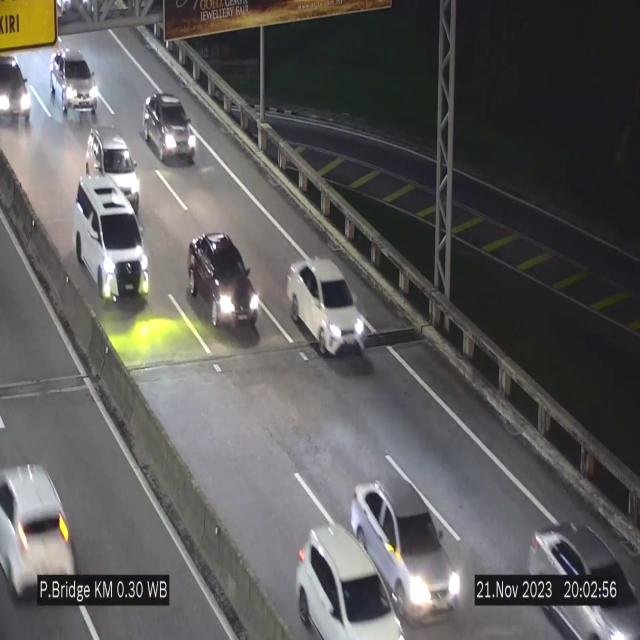Car: (348, 470, 466, 620), (526, 488, 640, 640), (0, 440, 90, 610), (285, 518, 407, 640), (74, 176, 148, 304), (186, 231, 262, 334), (287, 258, 368, 354), (85, 124, 139, 208), (142, 92, 195, 164), (49, 48, 99, 118), (0, 44, 36, 125)
